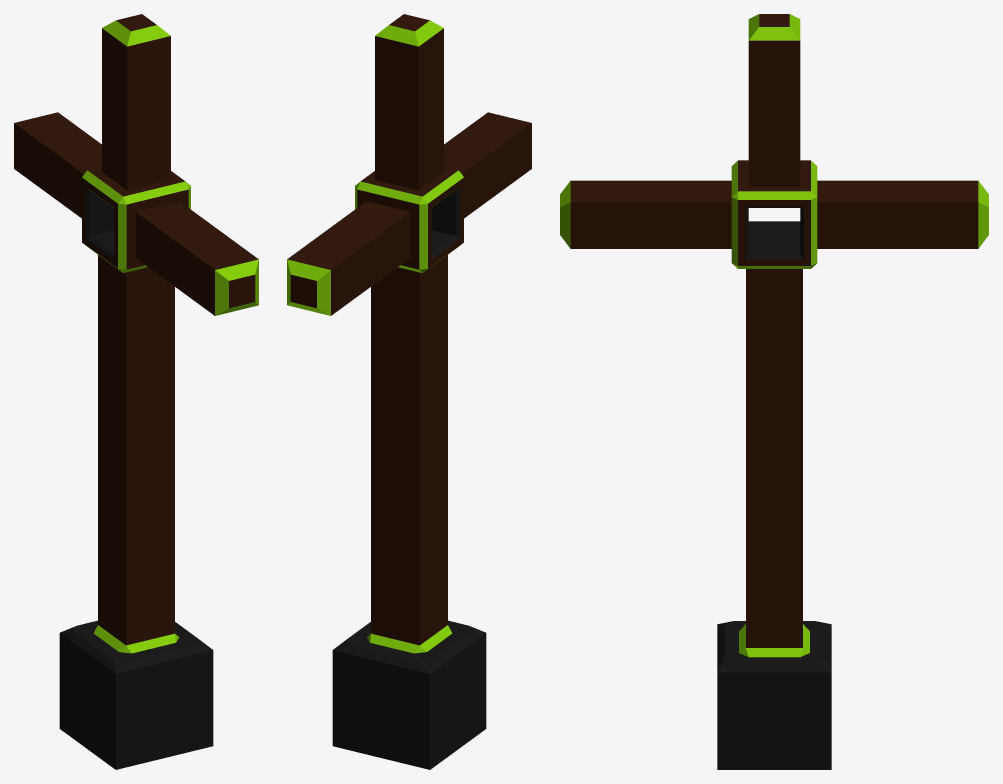
The model's file is Cross.obj.
The picture shows the model from 3 angles, left to right: view 1: azimuth 30°, elevation 25°; view 2: azimuth 150°, elevation 25°; view 3: azimuth 270°, elevation 25°; orthographic projection.
Parts seen in each view (by area): view 1: Cube; view 2: Cube; view 3: Cube.
Boxes of the visible parts, x1,y1,x2,y2 form: Cube: (14,14,258,769); Cube: (287,14,531,769); Cube: (560,14,988,769).
Size of the model in its own units: 2 by 14 by 7.5.
